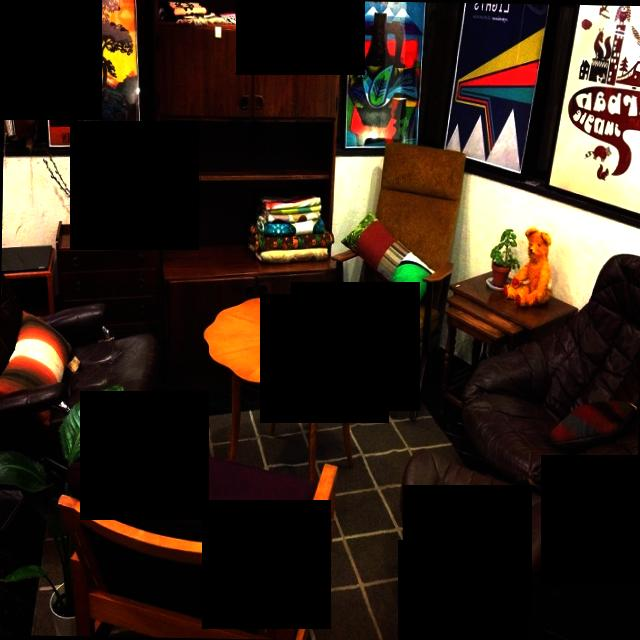vintage chair: (56, 419, 337, 640), (330, 135, 466, 308)
vintage desk: (205, 290, 388, 488), (436, 270, 578, 359)
vintage shelf: (158, 18, 342, 290), (57, 200, 154, 313)
vintage sofa: (463, 233, 640, 496)
